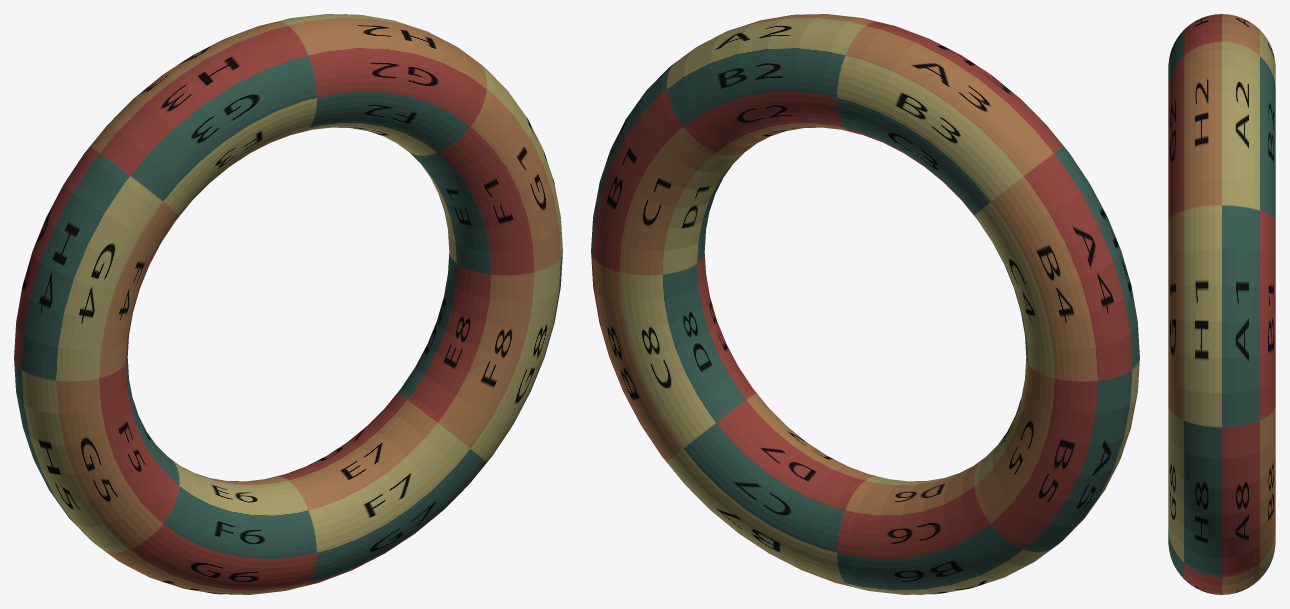
File: texture_torus_R23_r14.glb
3 renders of one model, left to right at view 1: azimuth 30°, elevation 25°; view 2: azimuth 150°, elevation 25°; view 3: azimuth 270°, elevation 25°, orthographic. The views are drawn at different scales.
Parts seen in each view (by area): view 1: world; view 2: world; view 3: world.
Boxes of the visible parts, left/top/right/bottom form: world: left=14, top=14, right=562, bottom=594; world: left=591, top=14, right=1139, bottom=594; world: left=1168, top=14, right=1275, bottom=594.
Bounding box in the file's own units: 31.07 × 31.01 × 5.72.
Materials: 1 (1 with a texture image).
